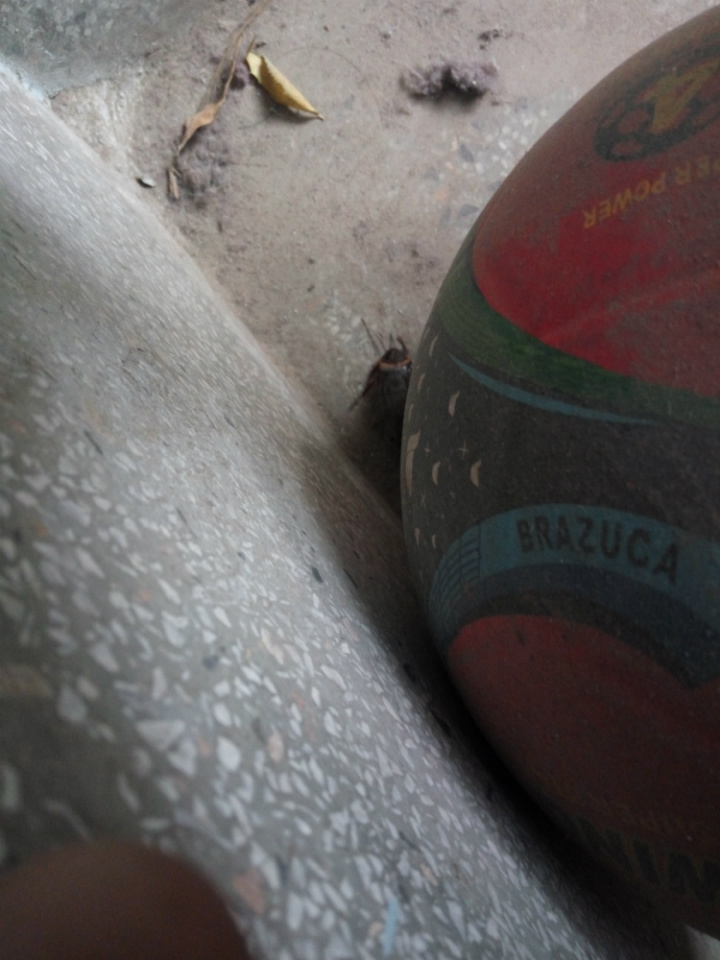cockroach: (337, 315, 447, 471)
